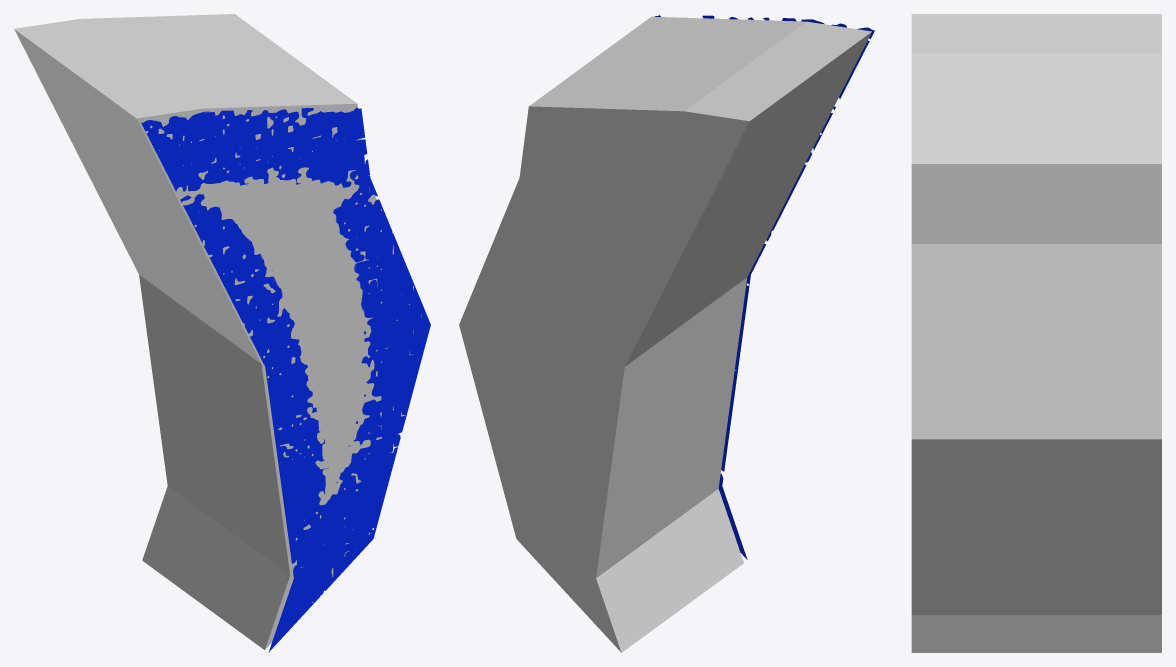
The picture shows the model from 3 angles, left to right: view 1: azimuth 30°, elevation 25°; view 2: azimuth 150°, elevation 25°; view 3: azimuth 270°, elevation 25°; orthographic projection. The views are drawn at different scales.
Parts seen in each view (by area): view 1: In2_0, In2_1; view 2: In2_0, In2_1; view 3: In2_0.
Part boxes in pixels (box(x1,y1,x2,y2)): In2_0: box(14, 14, 421, 649); In2_1: box(141, 107, 430, 652); In2_0: box(459, 16, 871, 652); In2_1: box(654, 15, 874, 559); In2_0: box(911, 14, 1161, 652).
Bounding box in the file's own units: 0.6847 × 1.27 × 0.515.
2 materials, 1 textured.
